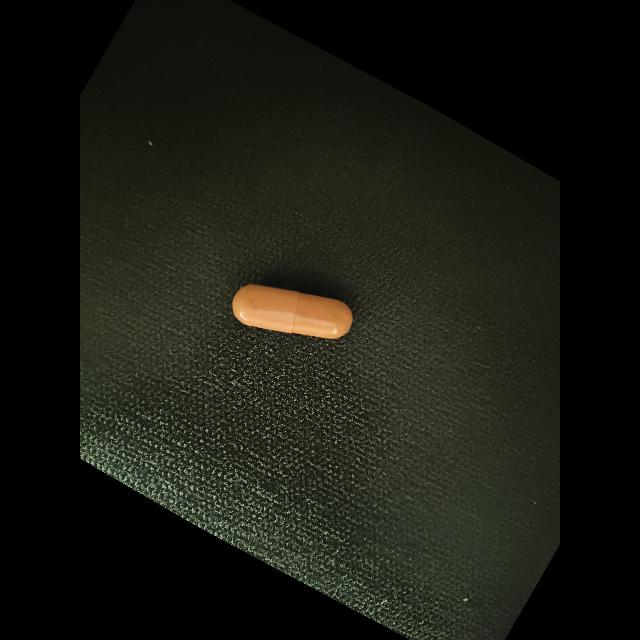Intact Capsule: (232, 284, 353, 339)
